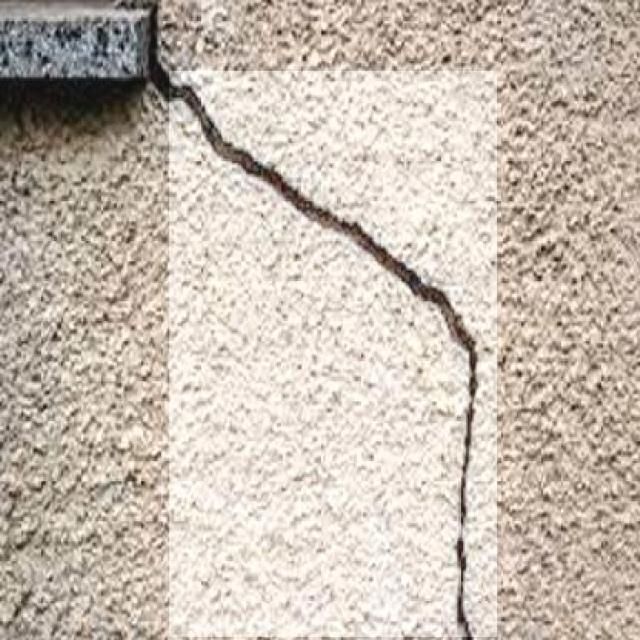Crack: (138, 0, 517, 638)
